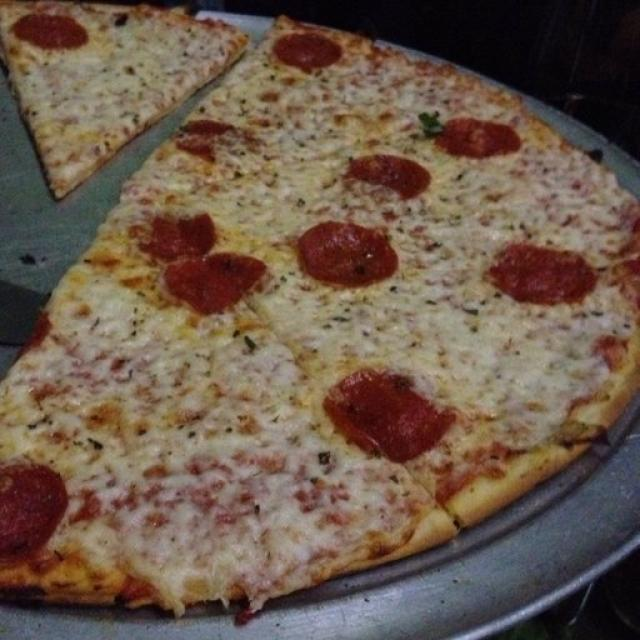Pepperoni: (335, 370, 444, 453), (0, 458, 66, 552), (302, 222, 394, 286), (492, 245, 591, 304), (161, 259, 267, 304), (440, 117, 520, 158), (355, 152, 424, 197), (16, 12, 94, 50), (143, 212, 217, 252), (278, 32, 345, 74), (178, 117, 230, 161)
Pizza: (0, 18, 640, 618), (0, 2, 249, 200)
